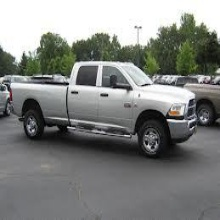no damage: (7, 60, 200, 158)
